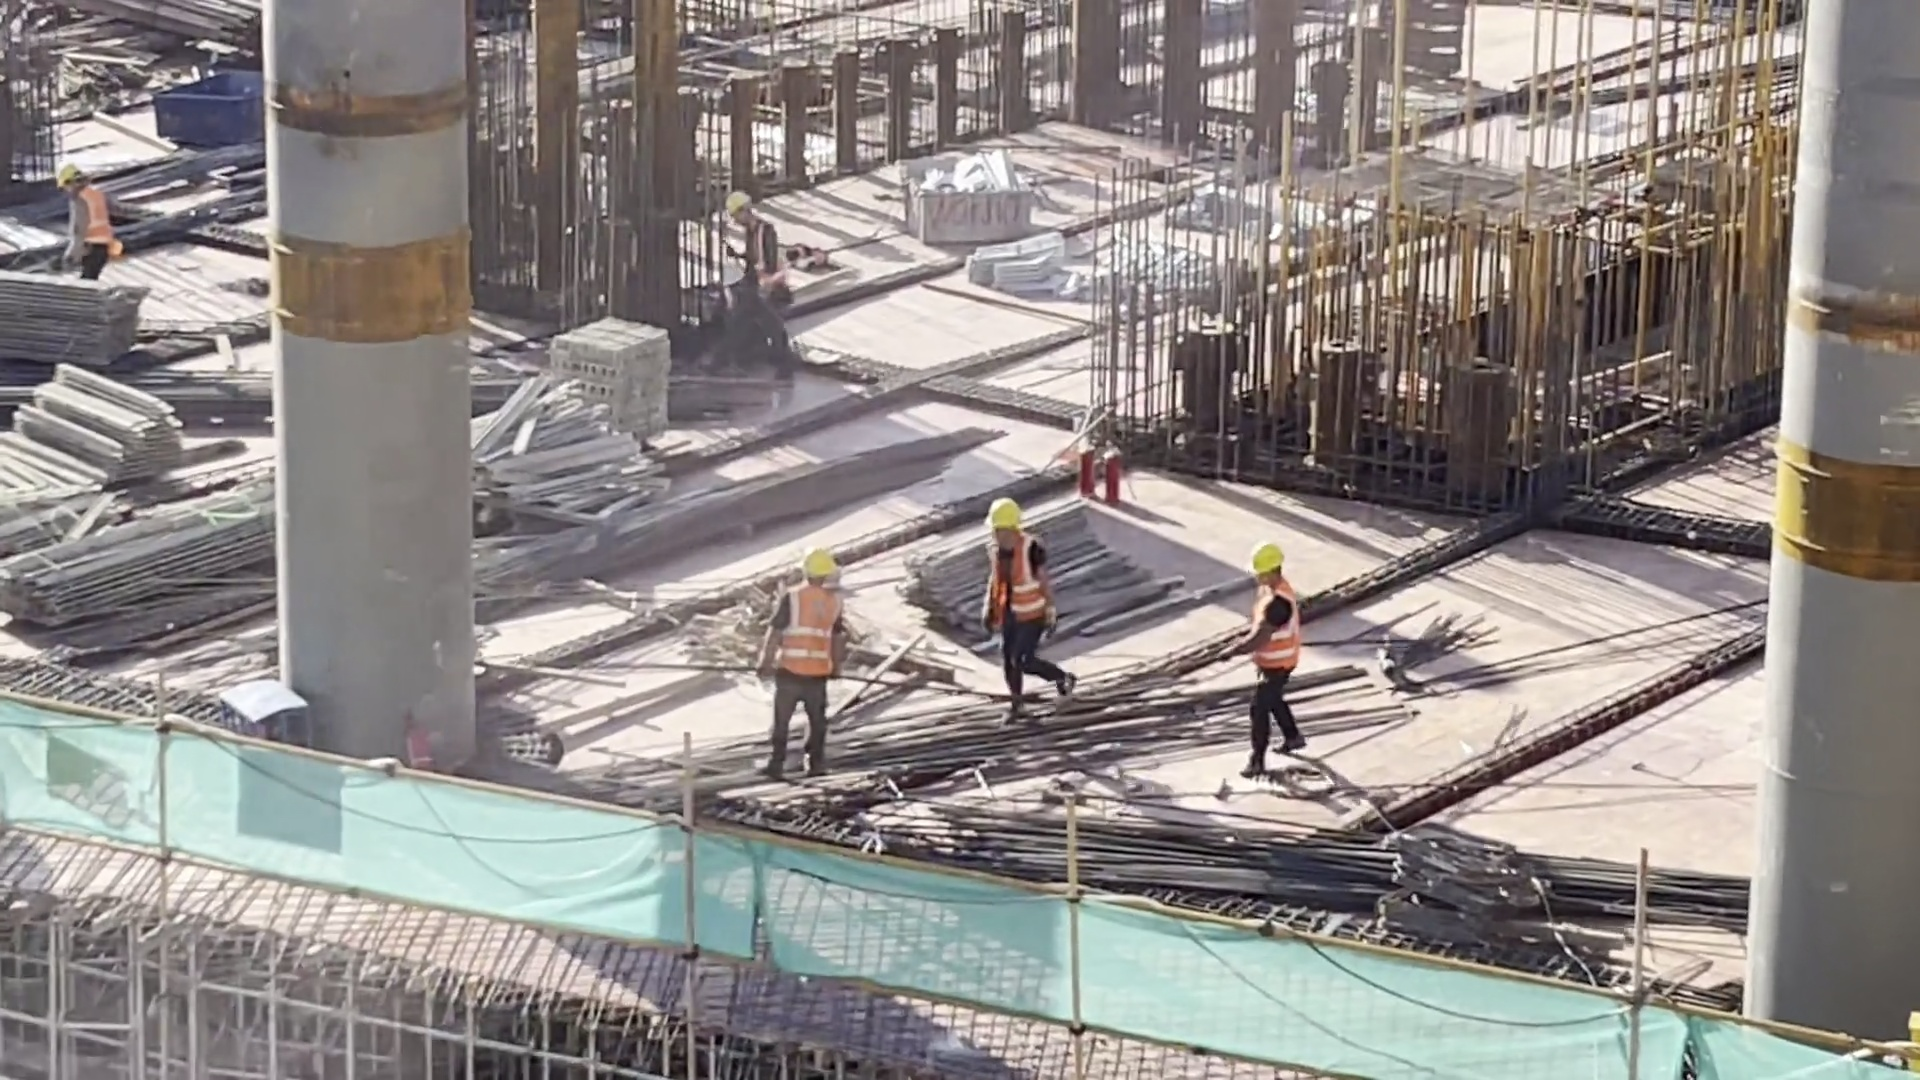helmet: (1239, 535, 1286, 578), (796, 538, 844, 579), (716, 183, 760, 227), (985, 500, 1027, 531), (60, 165, 90, 193)
hopper: (901, 149, 1040, 245), (141, 57, 270, 160)
person: (962, 494, 1062, 698), (1229, 532, 1318, 750), (769, 542, 848, 764), (712, 172, 800, 345), (36, 154, 111, 280)
vest: (981, 534, 1046, 634), (785, 587, 849, 678), (1257, 589, 1308, 683), (737, 226, 783, 290), (70, 194, 113, 257)
wood: (1, 491, 286, 624), (901, 497, 1147, 639), (1, 368, 166, 501), (1, 266, 145, 365)
